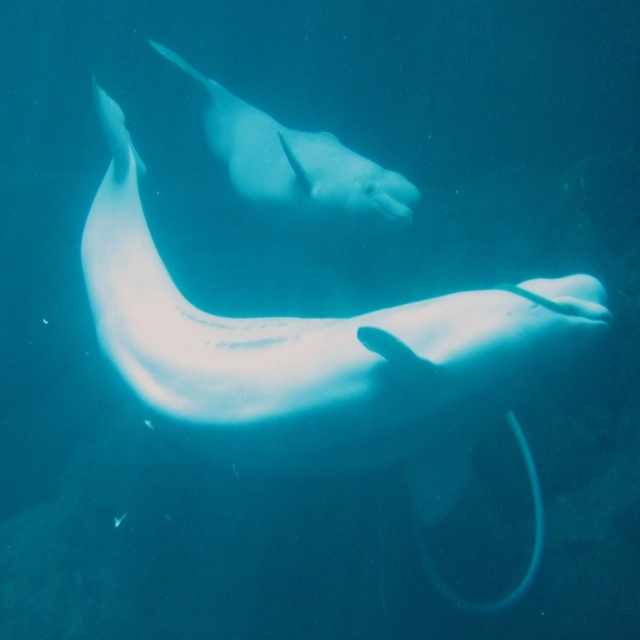Fish: (80, 71, 614, 529), (148, 40, 422, 230)
